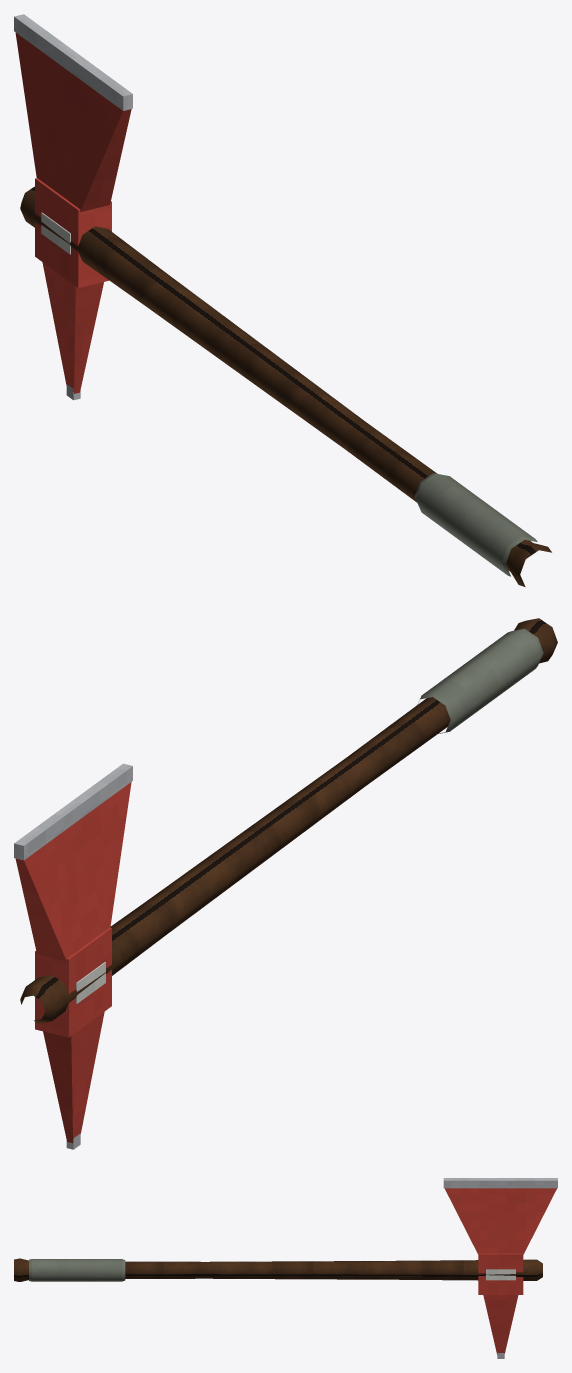
Rendered from item_axe.glb.
The picture shows the model from 3 angles, top to bottom: view 1: azimuth 30°, elevation 25°; view 2: azimuth 150°, elevation 25°; view 3: azimuth 270°, elevation 25°; orthographic projection. The views are drawn at different scales.
Parts seen in each view (by area): view 1: axe; view 2: axe; view 3: axe.
Part boxes in pixels (x1=…): axe: x1=14, y1=14, x2=551, y2=586; axe: x1=14, y1=618, x2=557, y2=1149; axe: x1=14, y1=1178, x2=557, y2=1358.
Bounding box in the file's own units: 0.042 × 0.328 × 0.905.
Materials: 5 (5 with a texture image).
